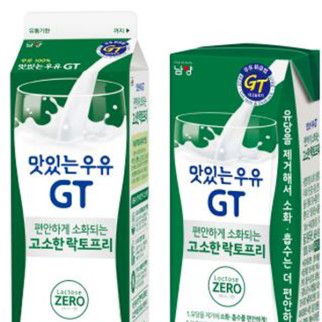milk: (9, 9, 150, 322), (169, 43, 322, 321)
